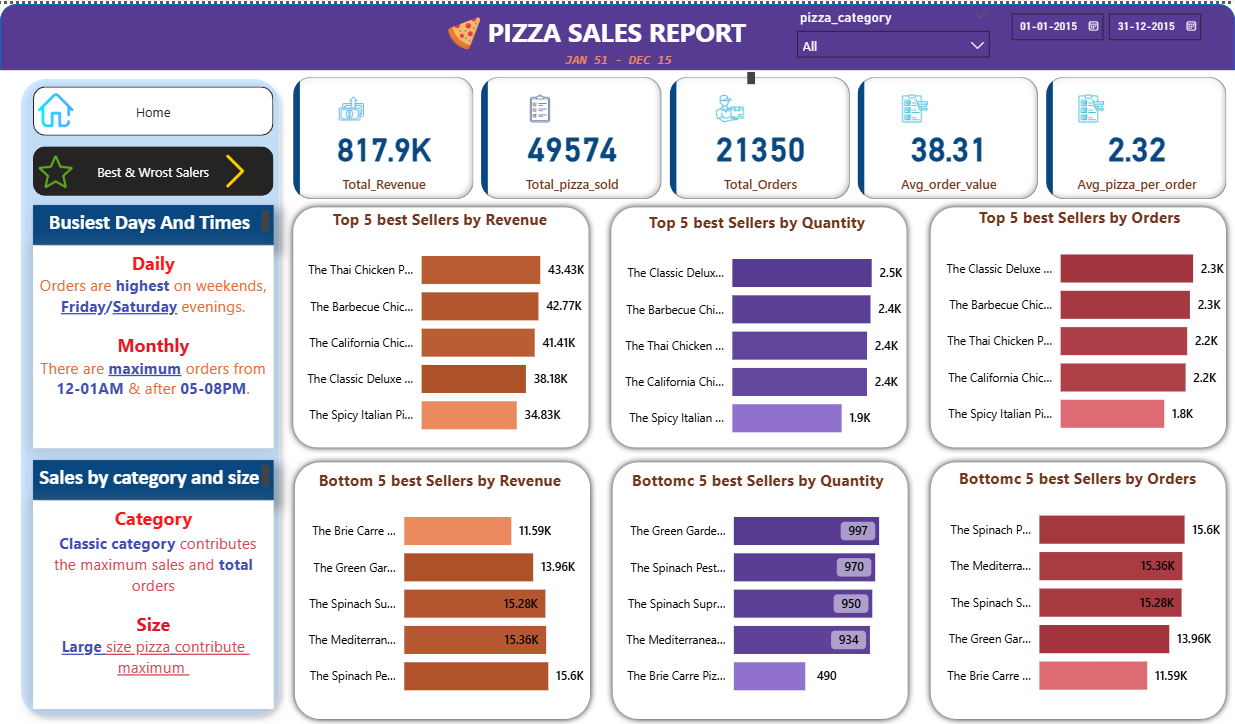

What the dashboard file says about the page in this screenshot:
{"tool":"powerbi","page":{"name":"Best & Wrost Salers","canvas":[1280,750],"ordinal":1},"visuals":[{"type":"shape","box":[0,0,1279.6,69],"z":0},{"type":"shape","box":[12.2,68.5,286,678.5],"z":1000},{"type":"cardVisual","fields":{"Data":["pizza_sales.Total_Revenue","pizza_sales.Total_pizza_sold","pizza_sales.Total_Orders","pizza_sales.Avg_order_value","pizza_sales.Avg_pizza_per_order"]},"box":[298.3,69.7,981.2,137.8],"z":2000},{"type":"textbox","title":"PIZZA SALES REPORT","box":[493.3,10.6,293,38.5],"z":3000},{"type":"textbox","title":"JAN 51 - DEC 15","box":[494.6,49.1,293,38.5],"z":4000},{"type":"image","box":[457.5,8,47.7,45.1],"z":5000},{"type":"shape","box":[956.9,467,319.5,279.9],"z":6000},{"type":"shape","box":[298.2,467,320,280],"z":7000},{"type":"shape","box":[628.3,467,319.5,279.9],"z":8000},{"type":"textbox","box":[33.5,208.4,249.5,41.1],"z":9000},{"type":"textbox","box":[33.5,249.5,249,209.9],"z":10000},{"type":"textbox","box":[33.5,473.1,249.5,41.1],"z":11000},{"type":"textbox","box":[33.5,514.2,249.5,216],"z":12000},{"type":"slicer","fields":{"Values":["pizza_sales.pizza_category"]},"box":[815.4,0,219.1,68.5],"z":13000},{"type":"shape","box":[297.1,204.3,320,262.9],"z":14000},{"type":"shape","box":[625.7,204.3,320,262.9],"z":15000},{"type":"slicer","fields":{"Values":["pizza_sales.order_date"]},"box":[1034.5,0,219.1,70],"z":16000},{"type":"barChart","title":"Top 5 best Sellers by Revenue","fields":{"Category":["pizza_sales.pizza_name"],"Y":["pizza_sales.Total_Revenue"]},"box":[301.4,211.4,308.6,250],"z":17000},{"type":"barChart","title":"Top 5 best Sellers by Quantity","fields":{"Category":["pizza_sales.pizza_name"],"Y":["pizza_sales.Total_pizza_sold"]},"box":[630,214.3,310,250],"z":18000},{"type":"shape","box":[957.1,204.3,320,262.9],"z":19000},{"type":"barChart","title":"Top 5 best Sellers by Orders","fields":{"Category":["pizza_sales.pizza_name"],"Y":["pizza_sales.Total_Orders"]},"box":[962.9,210,310,250],"z":20000},{"type":"barChart","title":"Bottom 5 best Sellers by Revenue","fields":{"Category":["pizza_sales.pizza_name"],"Y":["pizza_sales.Total_Revenue"]},"box":[301.4,481.4,308.6,250],"z":21000},{"type":"barChart","title":"Bottomc 5 best Sellers by Orders","fields":{"Category":["pizza_sales.pizza_name"],"Y":["pizza_sales.Total_Revenue"]},"box":[963,480.7,305.8,251],"z":22000},{"type":"barChart","title":"Bottomc 5 best Sellers by Quantity","fields":{"Category":["pizza_sales.pizza_name"],"Y":["pizza_sales.Total_pizza_sold"]},"box":[631.4,481.4,308.6,250],"z":23000},{"type":"pageNavigator","box":[33.5,85.2,249.5,51.7],"z":24000},{"type":"pageNavigator","box":[33.5,147.6,249.5,51.7],"z":25000},{"type":"image","box":[220.6,136.9,45.6,73],"z":26000},{"type":"image","box":[33.5,82.2,47.2,54.8],"z":27000},{"type":"image","box":[31.9,150.6,50.2,45.6],"z":28000}]}

Visuals, with their boxes in screenshot pixels (x1, y1, x2, y2), scaled from the page's 1280x750 canvas onto the 1235x724 screenshot:
shape: 0,0,1234,67
shape: 12,66,288,721
cardVisual - pizza_sales.Total_Revenue x pizza_sales.Total_pizza_sold: 288,67,1234,200
"PIZZA SALES REPORT" textbox: 476,10,759,47
"JAN 51 - DEC 15" textbox: 477,47,760,85
image: 441,8,487,51
shape: 923,451,1232,721
shape: 288,451,596,721
shape: 606,451,914,721
textbox: 32,201,273,241
textbox: 32,241,273,443
textbox: 32,457,273,496
textbox: 32,496,273,705
slicer - pizza_sales.pizza_category: 787,0,998,66
shape: 287,197,595,451
shape: 604,197,912,451
slicer - pizza_sales.order_date: 998,0,1210,68
"Top 5 best Sellers by Revenue" barChart: 291,204,589,445
"Top 5 best Sellers by Quantity" barChart: 608,207,907,448
shape: 923,197,1232,451
"Top 5 best Sellers by Orders" barChart: 929,203,1228,444
"Bottom 5 best Sellers by Revenue" barChart: 291,465,589,706
"Bottomc 5 best Sellers by Orders" barChart: 929,464,1224,706
"Bottomc 5 best Sellers by Quantity" barChart: 609,465,907,706
pageNavigator: 32,82,273,132
pageNavigator: 32,142,273,192
image: 213,132,257,203
image: 32,79,78,132
image: 31,145,79,189
